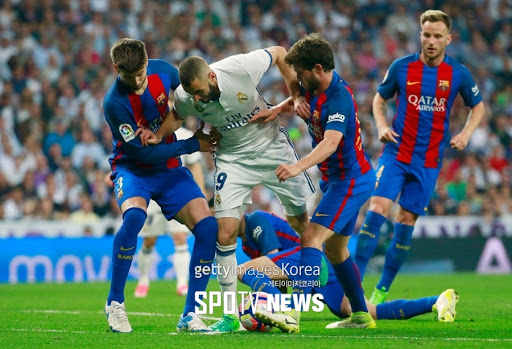barcelona: (87, 35, 217, 341), (364, 9, 486, 317), (276, 35, 382, 342)
realmadrid: (166, 50, 322, 343)
